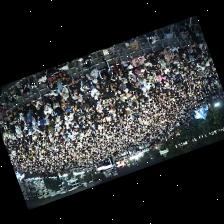person: (98, 55, 110, 79), (67, 79, 80, 94), (112, 58, 123, 75), (144, 51, 158, 64), (42, 97, 51, 117), (131, 54, 143, 69), (61, 89, 71, 106), (85, 68, 97, 82), (46, 90, 60, 102), (163, 49, 174, 63), (52, 102, 60, 120), (57, 86, 68, 99), (29, 98, 41, 109), (89, 85, 98, 99), (24, 109, 31, 127), (125, 82, 134, 96), (80, 75, 90, 87), (100, 79, 110, 91), (80, 100, 89, 113), (138, 68, 151, 77), (109, 73, 118, 86), (91, 77, 101, 88), (18, 104, 28, 115), (71, 90, 82, 100), (17, 112, 23, 130), (80, 81, 88, 94), (176, 45, 187, 54), (128, 68, 135, 81), (170, 45, 178, 56), (158, 58, 165, 70), (7, 112, 14, 124), (96, 87, 105, 96), (122, 60, 132, 68), (147, 66, 155, 76), (157, 74, 165, 84), (162, 59, 170, 69), (35, 119, 43, 129), (47, 120, 53, 133), (28, 103, 35, 114), (3, 126, 8, 141), (197, 42, 205, 51), (1, 116, 8, 125), (96, 100, 101, 112), (15, 125, 20, 137), (81, 93, 86, 104), (186, 41, 191, 51), (31, 116, 35, 128)
